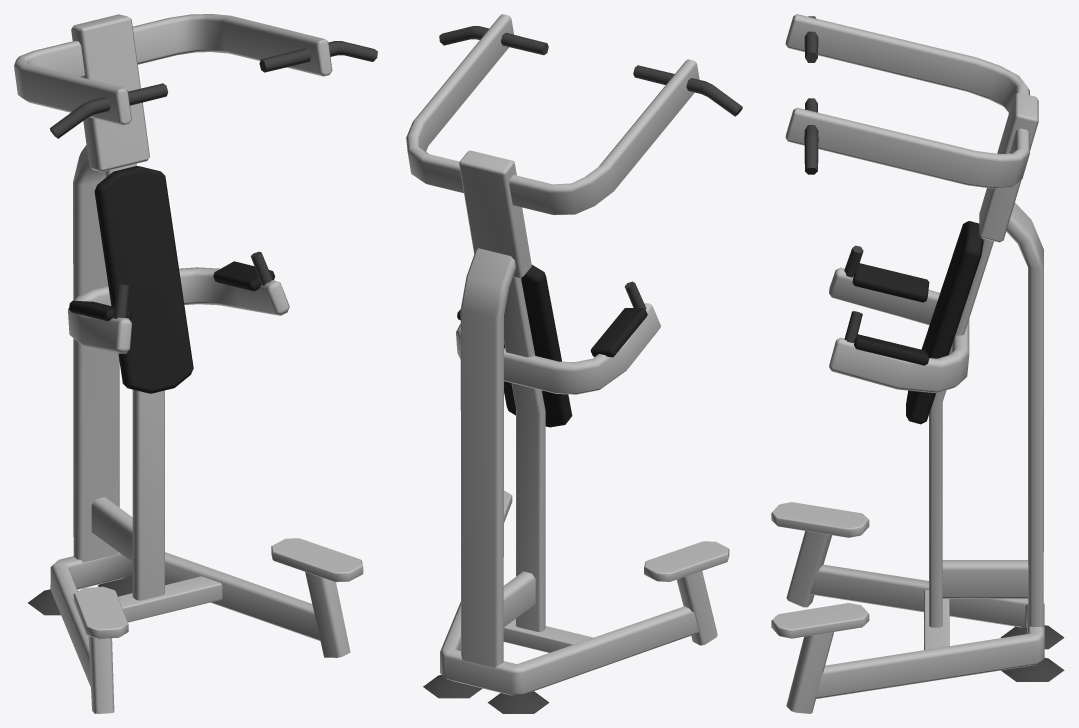
The model's file is training_004.fbx.
The picture shows the model from 3 angles, left to right: view 1: azimuth 30°, elevation 25°; view 2: azimuth 150°, elevation 25°; view 3: azimuth 270°, elevation 25°; orthographic projection. The views are drawn at different scales.
Parts seen in each view (by area): view 1: training_004; view 2: training_004; view 3: training_004.
Boxes of the visible parts, box(x1,y1,x2,y2) form: training_004: box(14, 14, 377, 713); training_004: box(406, 14, 742, 713); training_004: box(771, 14, 1064, 713).
Bounding box in the file's own units: 133 × 109 × 244.
